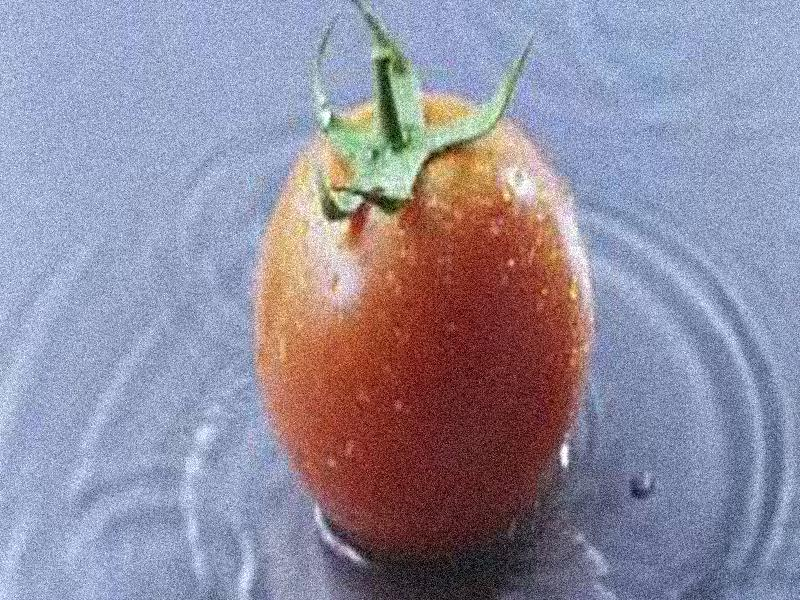Tomato: (255, 96, 588, 560)
